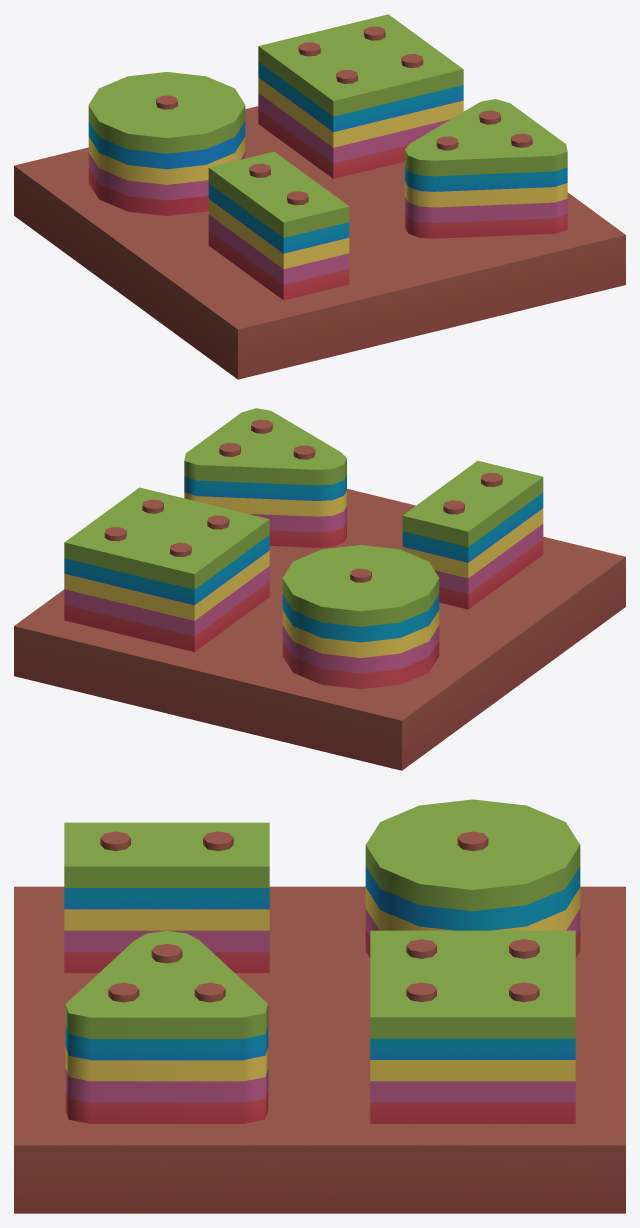
File: SM_Geometric_Sorting_Board_02.fbx
The picture shows the model from 3 angles, top to bottom: view 1: azimuth 30°, elevation 25°; view 2: azimuth 150°, elevation 25°; view 3: azimuth 270°, elevation 25°; orthographic projection. The views are drawn at different scales.
Visible parts, largest first — view 1: SM_Geometric_Sorting_Board_02; view 2: SM_Geometric_Sorting_Board_02; view 3: SM_Geometric_Sorting_Board_02.
Part boxes in pixels (x1,y1,x2,y2): SM_Geometric_Sorting_Board_02: (14,14,625,379); SM_Geometric_Sorting_Board_02: (14,408,625,770); SM_Geometric_Sorting_Board_02: (14,799,625,1213).
Bounding box in the file's own units: 38.66 × 12.66 × 38.66.
